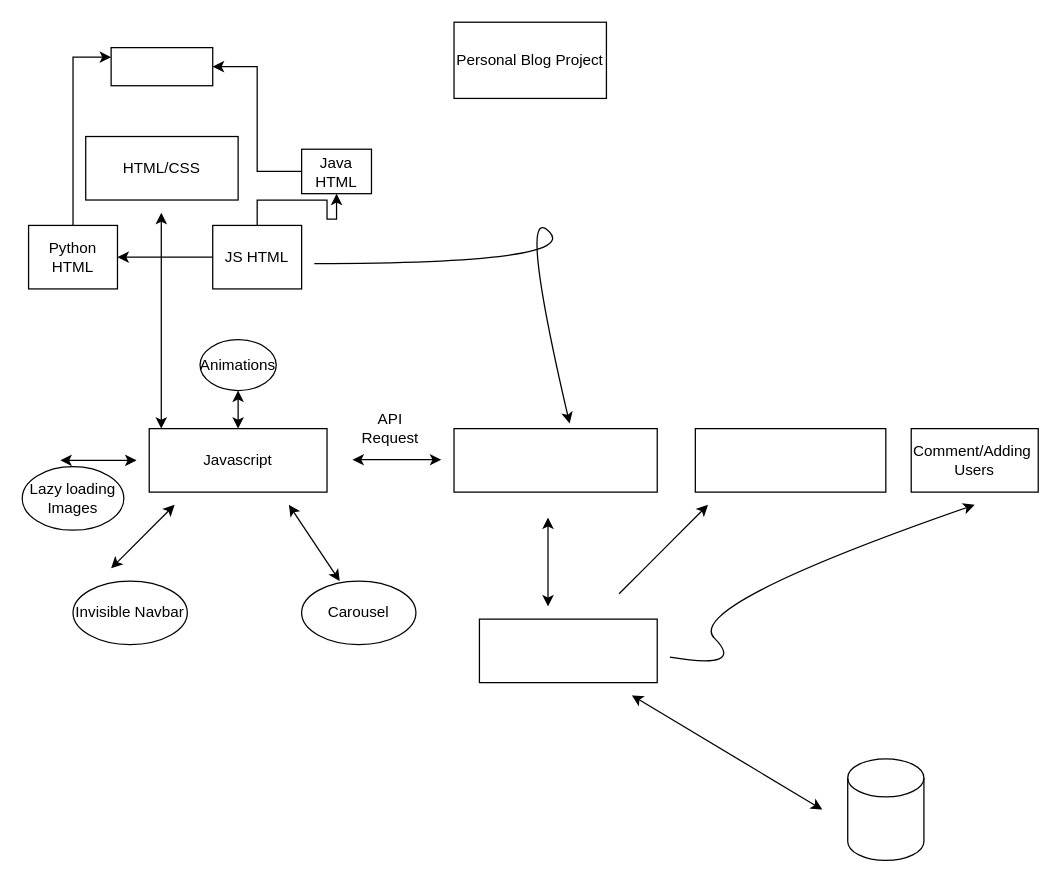
The diagram is 1060 pixels wide and 883 high, and some of its shapes have lost their labels. The box of each missing label's shape, as (x1, y1, x2, y2) in pixels:
Authentication: (694, 427, 886, 492)
DB: (846, 758, 924, 860)
Flask API (Blog Article): (453, 427, 657, 492)
HTML/CSS HTML: (110, 46, 213, 86)
Python: (478, 618, 657, 683)
